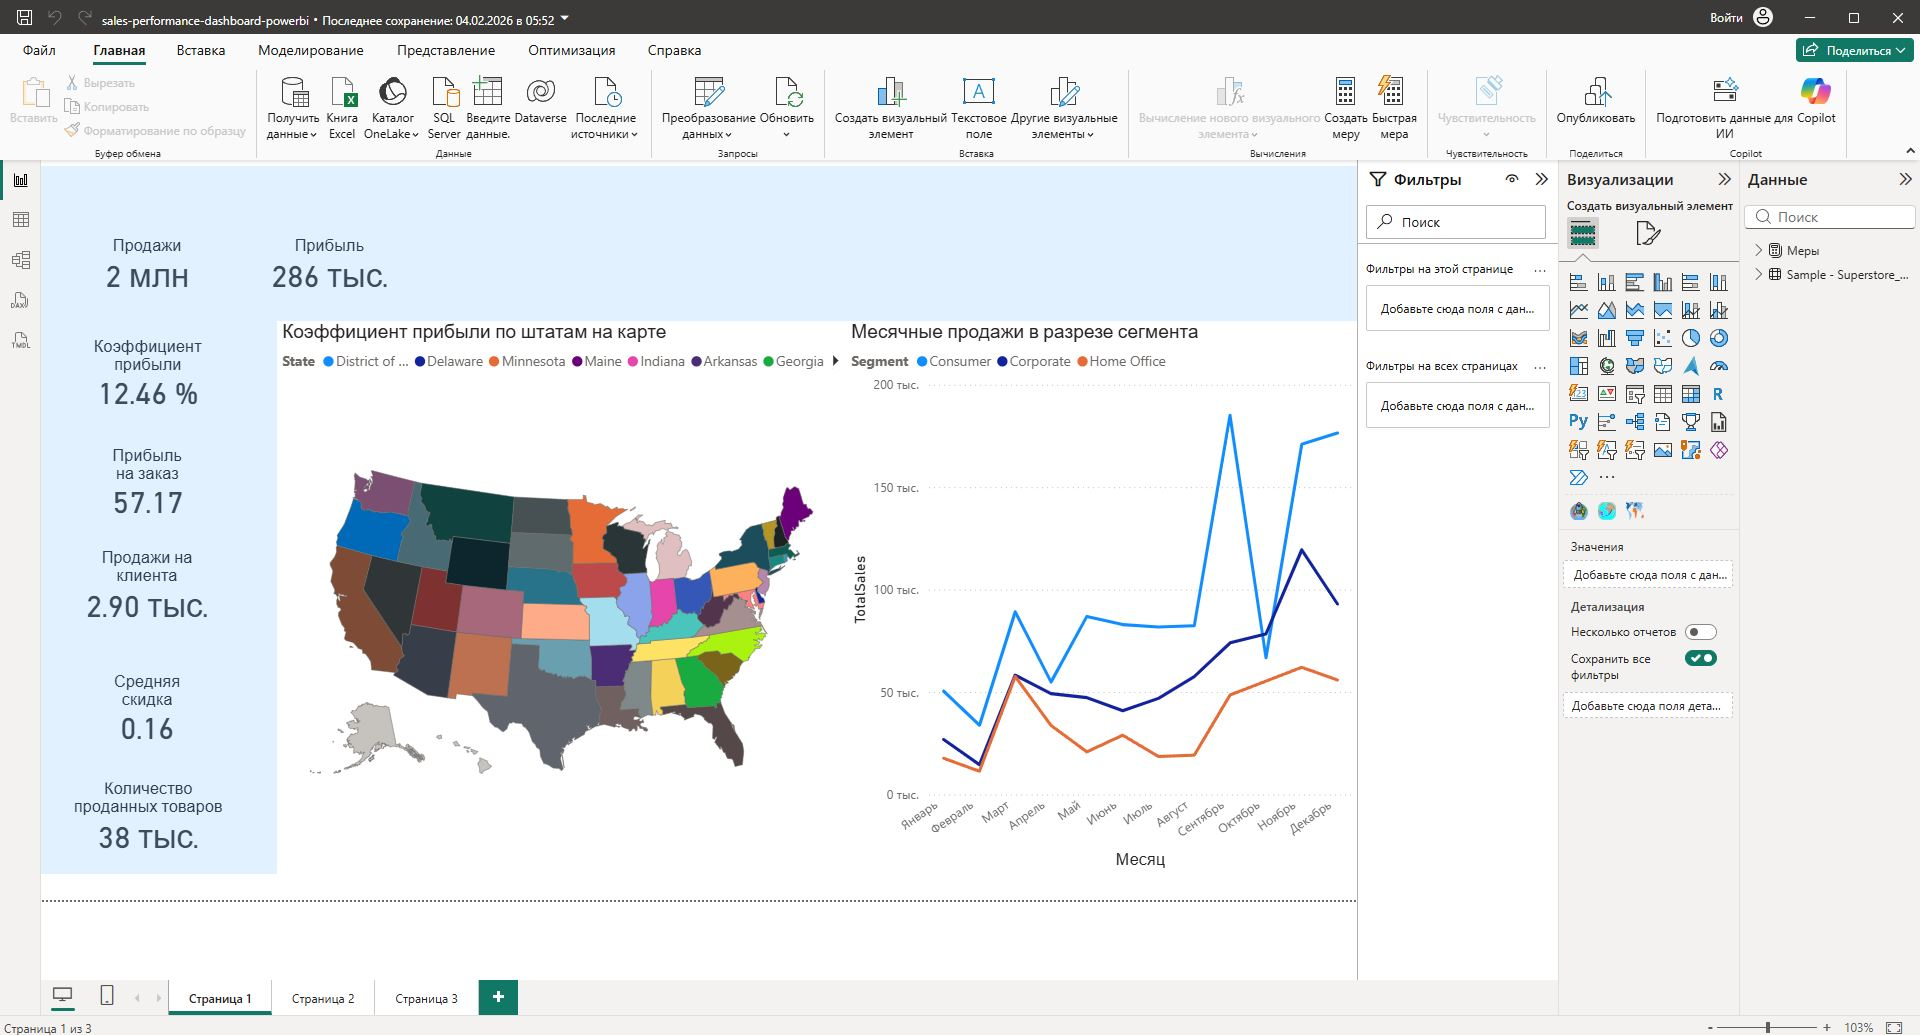

The page's visual inventory and layout, read from the dashboard file:
{"tool":"powerbi","page":{"name":"Страница 1","canvas":[1280,720],"ordinal":0},"visuals":[{"type":"cardVisual","fields":{"Data":["Меры.TotalSales"]},"box":[24.3,50.6,158.5,106],"z":0},{"type":"cardVisual","fields":{"Data":["Меры.TotalProfit"]},"box":[193.6,50.6,174.1,106],"z":1000},{"type":"cardVisual","fields":{"Data":["Меры.Profit ratio"]},"box":[20.4,156.6,167.3,106],"z":2000},{"type":"cardVisual","fields":{"Data":["Меры.ProfitperOrder"]},"box":[37.9,262.6,131.3,106],"z":3000},{"type":"cardVisual","fields":{"Data":["Меры.SalesperCustomer"]},"box":[13.6,359.9,179.9,115.7],"z":4000},{"type":"cardVisual","fields":{"Data":["Меры.AvgDiscount"]},"box":[41.8,482.4,123.5,106],"z":5000},{"type":"cardVisual","fields":{"Data":["Меры.TotalQuantity"]},"box":[1.9,588.4,205.2,106],"z":6000},{"type":"shape","box":[0,5.8,1280,150.8],"z":7000},{"type":"shape","box":[0,156.6,229.5,537.9],"z":8000},{"type":"shapeMap","title":"Коэффициент прибыли по штатам на карте","fields":{"Value":["Меры.Profit ratio"],"Category":["Sample - Superstore_Orders.State"],"Series":["Sample - Superstore_Orders.State"]},"box":[229.5,156.6,553.4,537.9],"z":9000},{"type":"lineChart","title":"Месячные продажи в разрезе сегмента","fields":{"Category":["Sample - Superstore_Orders.Order Date.Изменение.Иерархия дат.Месяц"],"Y":["Меры.TotalSales"],"Series":["Sample - Superstore_Orders.Segment"]},"box":[783,156.6,497,537.9],"z":9001}]}

Visuals, with their boxes on the page's 1280x720 design canvas (x1, y1, x2, y2). These are canvas units, not pixel positions in the 1920x1035 screenshot, which may show the page scaled, cropped or inside an application window:
cardVisual - Меры.TotalSales: 24, 51, 183, 157
cardVisual - Меры.TotalProfit: 194, 51, 368, 157
cardVisual - Меры.Profit ratio: 20, 157, 188, 263
cardVisual - Меры.ProfitperOrder: 38, 263, 169, 369
cardVisual - Меры.SalesperCustomer: 14, 360, 194, 476
cardVisual - Меры.AvgDiscount: 42, 482, 165, 588
cardVisual - Меры.TotalQuantity: 2, 588, 207, 694
shape: 0, 6, 1280, 157
shape: 0, 157, 230, 694
"Коэффициент прибыли по штатам на карте" shapeMap: 230, 157, 783, 694
"Месячные продажи в разрезе сегмента" lineChart: 783, 157, 1280, 694
